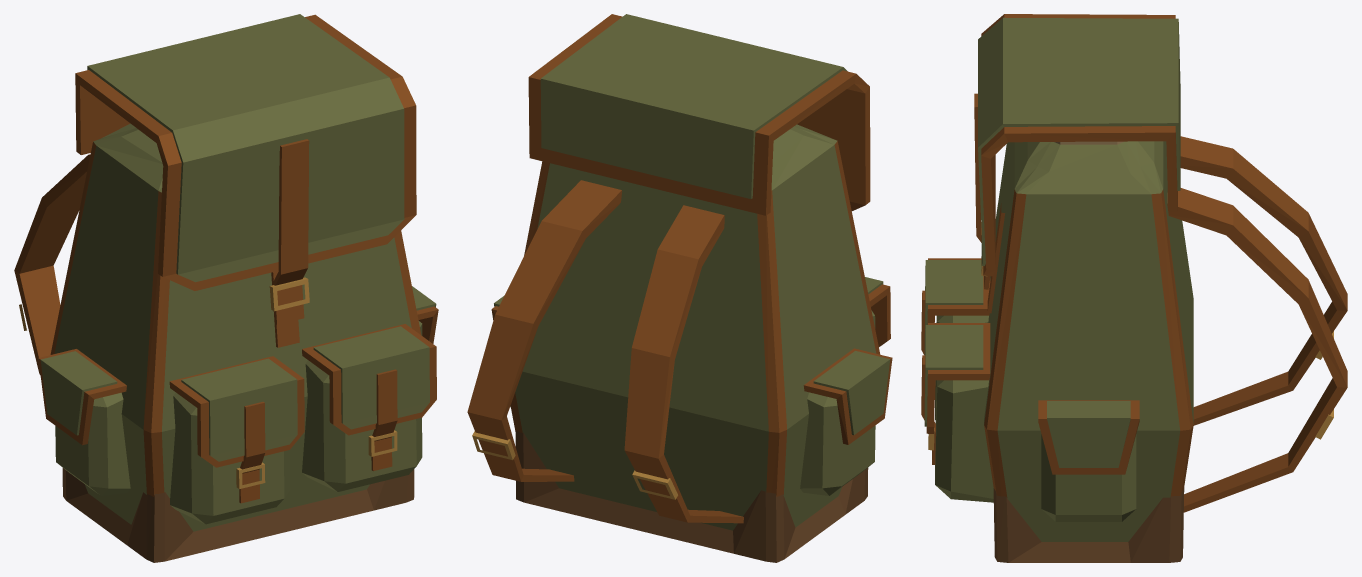
The model's file is adventurer-s-backpack-b1365c.glb.
3 views of the same model, side by side, from view 1: azimuth 30°, elevation 25°; view 2: azimuth 150°, elevation 25°; view 3: azimuth 270°, elevation 25° (orthographic).
Visible parts, largest first — view 1: backpack-body, flap-mesh; view 2: backpack-body, flap-mesh; view 3: backpack-body, flap-mesh.
Boxes of the visible parts, <box> form: backpack-body: <box>14,123,438,562</box>; flap-mesh: <box>75,14,416,324</box>; backpack-body: <box>467,124,892,562</box>; flap-mesh: <box>528,14,870,215</box>; backpack-body: <box>921,136,1347,562</box>; flap-mesh: <box>974,14,1180,289</box>.
Size of the model in its own units: 0.5194 by 0.596 by 0.539.
